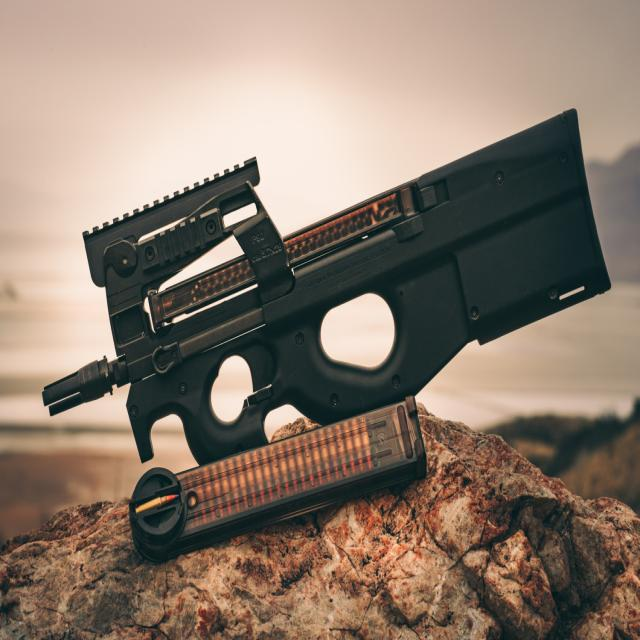SMG: (41, 110, 613, 469)
